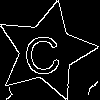C: (21, 26, 63, 76)
